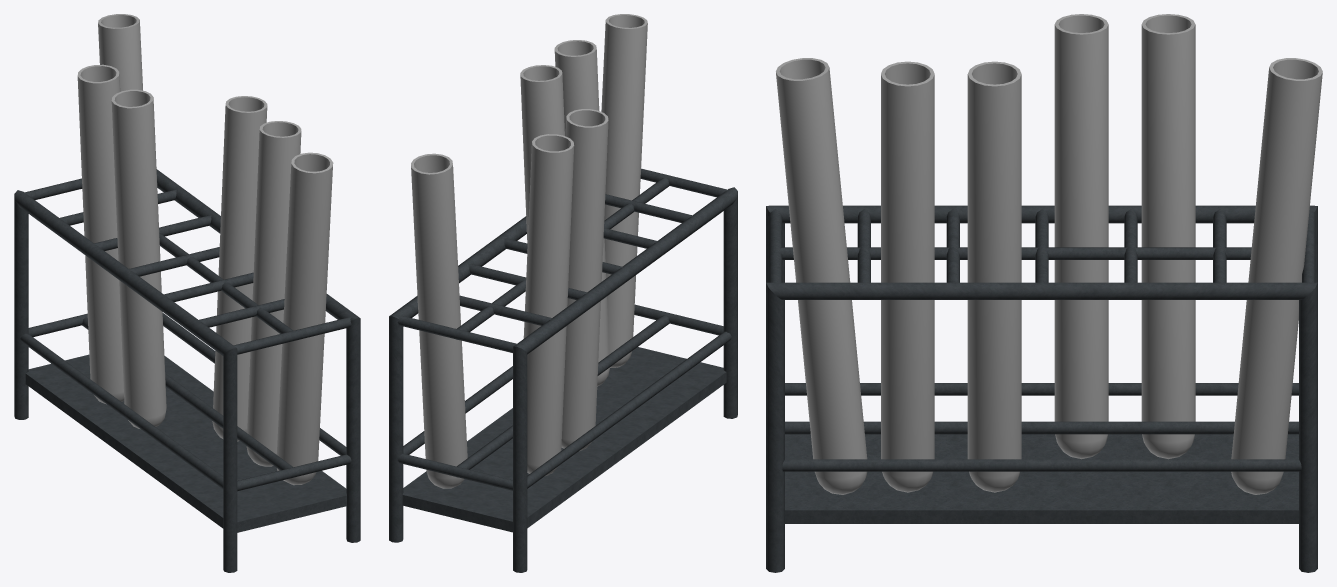
File: Testube.fbx
3 renders of one model, left to right at view 1: azimuth 30°, elevation 25°; view 2: azimuth 150°, elevation 25°; view 3: azimuth 270°, elevation 25°, orthographic. The views are drawn at different scales.
Visible parts, largest first — view 1: Testube, Stand; view 2: Testube, Stand; view 3: Testube, Stand.
Boxes of the visible parts, x1,y1,x2,y2 form: Testube: [77, 14, 333, 485]; Stand: [14, 169, 360, 572]; Testube: [411, 14, 647, 488]; Stand: [389, 168, 737, 572]; Testube: [776, 14, 1322, 494]; Stand: [766, 205, 1317, 572].
Bounding box in the file's own units: 7.47 × 19.87 × 20.76.
